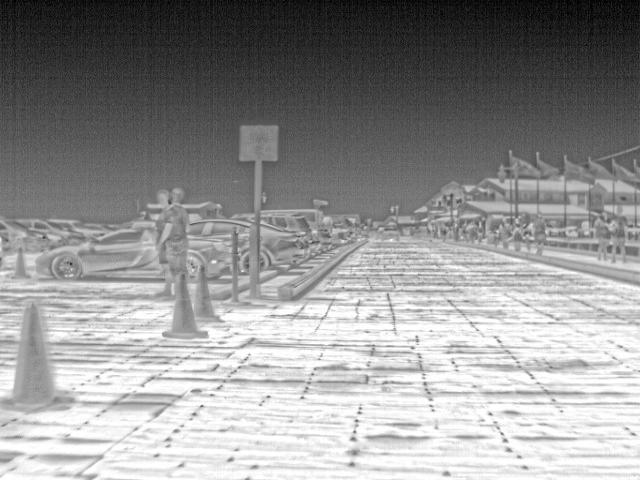car: (33, 227, 161, 280), (192, 220, 250, 276), (260, 209, 331, 249), (258, 214, 319, 254), (2, 217, 52, 255), (190, 236, 230, 278), (261, 227, 299, 270), (19, 216, 77, 242), (51, 218, 101, 236), (332, 227, 350, 246), (382, 227, 400, 241)
person: (156, 186, 192, 297), (609, 214, 631, 262), (594, 213, 610, 262), (531, 212, 548, 256), (509, 222, 526, 252), (154, 188, 168, 220), (498, 218, 512, 248), (521, 234, 533, 254)
